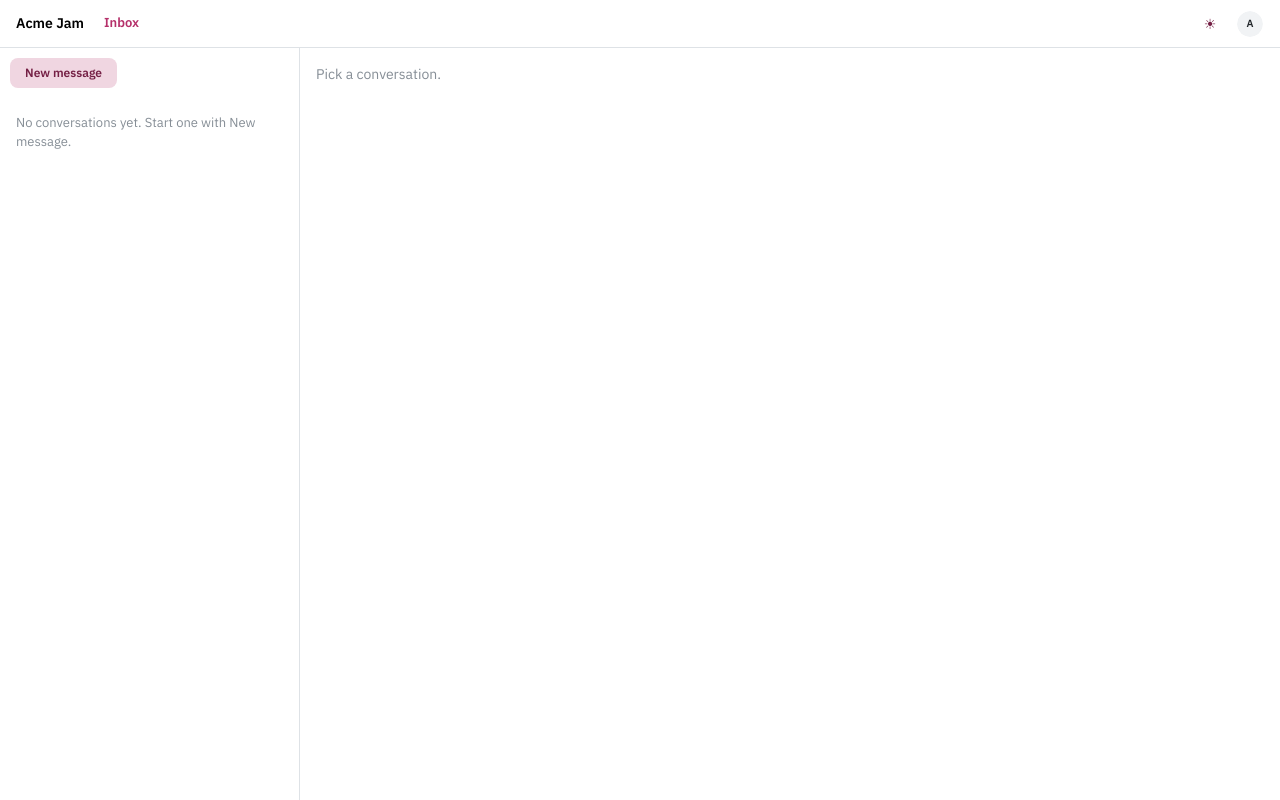
Test: the principal menu › account menu opens Connected apps
This screenshot has width=1280, height=800.
Click the button named "Account".
click(1250, 24)  # box [1236,10,1264,38]
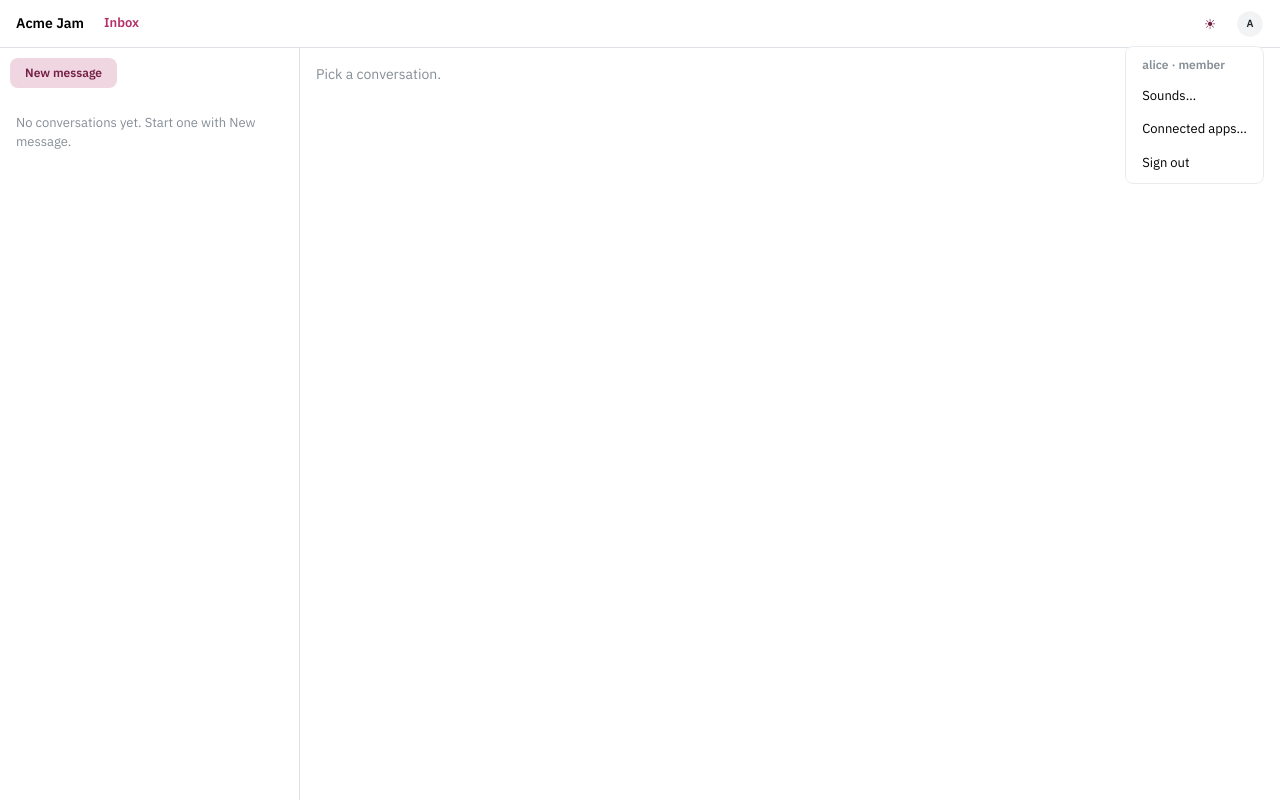
Click the menu item "Connected apps…".
click(1195, 129)  # box [1130,112,1259,146]
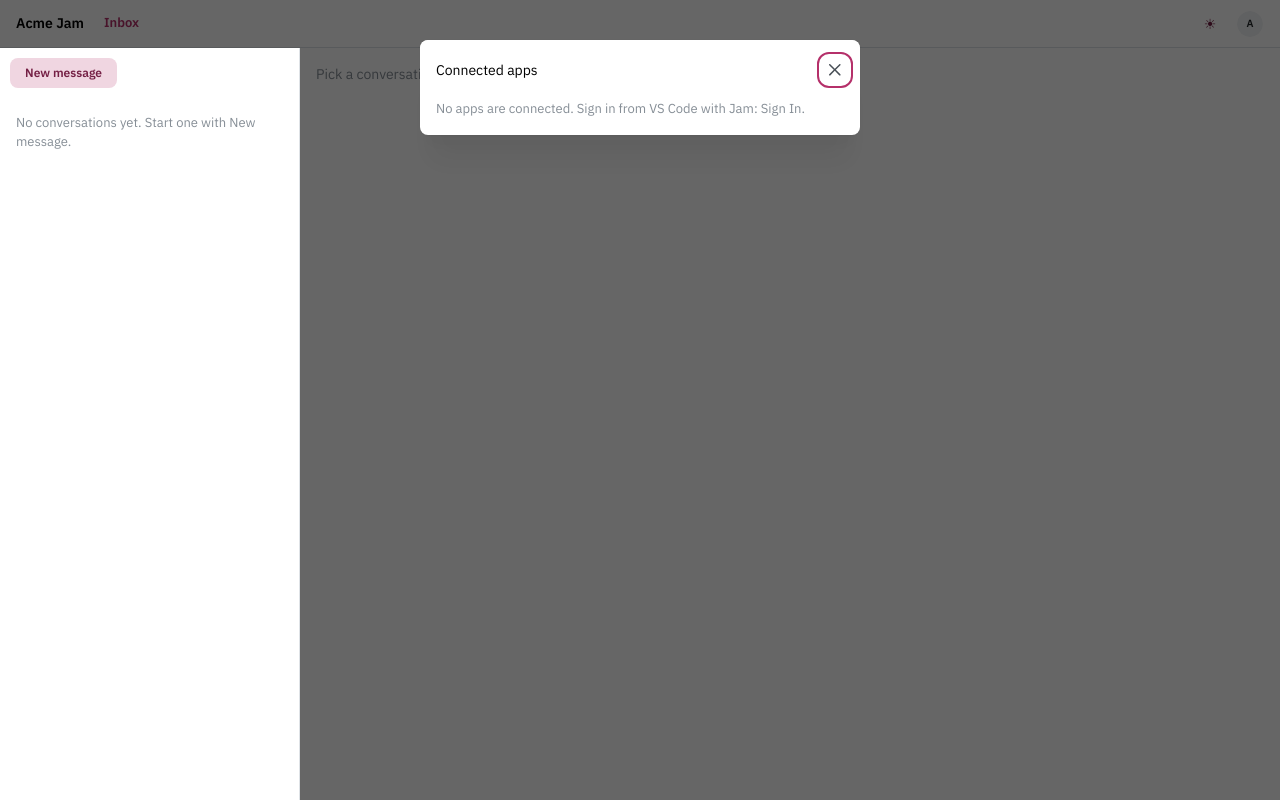
Check: the dialog "Connected apps" is shown, box [420,40,860,135]
Check: the text "No apps are connected" is shown, box [436,100,805,117]
